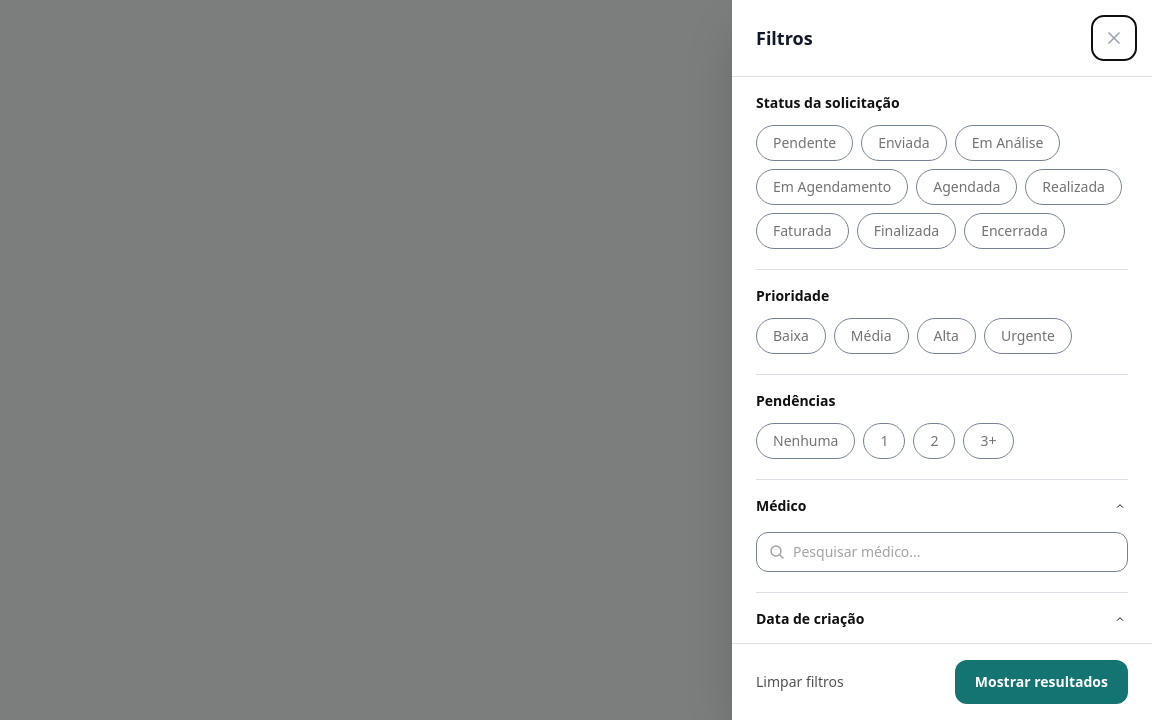
Test: FilterModal — Filtro por Médico › deve selecionar médico e exibir tag
Click the field with placeholder "Pesquisar médico..." at [954, 552], box [793,542,1115,562]
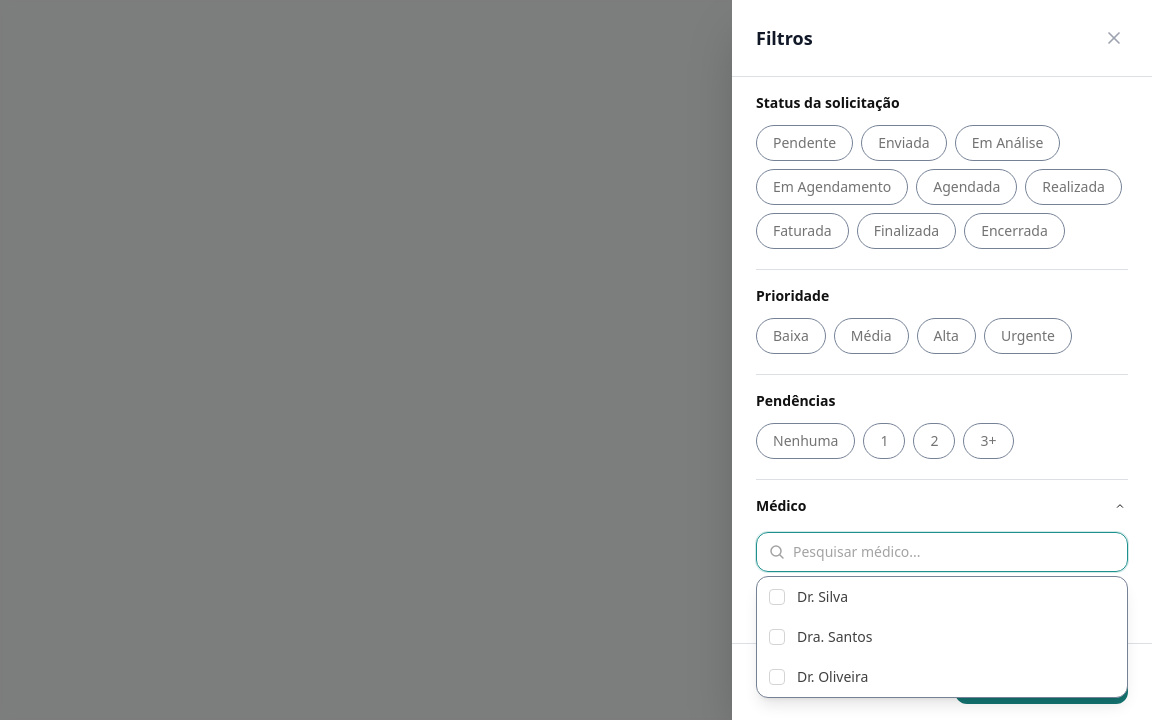
Click the button "Dr. Silva" at [823, 596], box [757,577,1127,617]
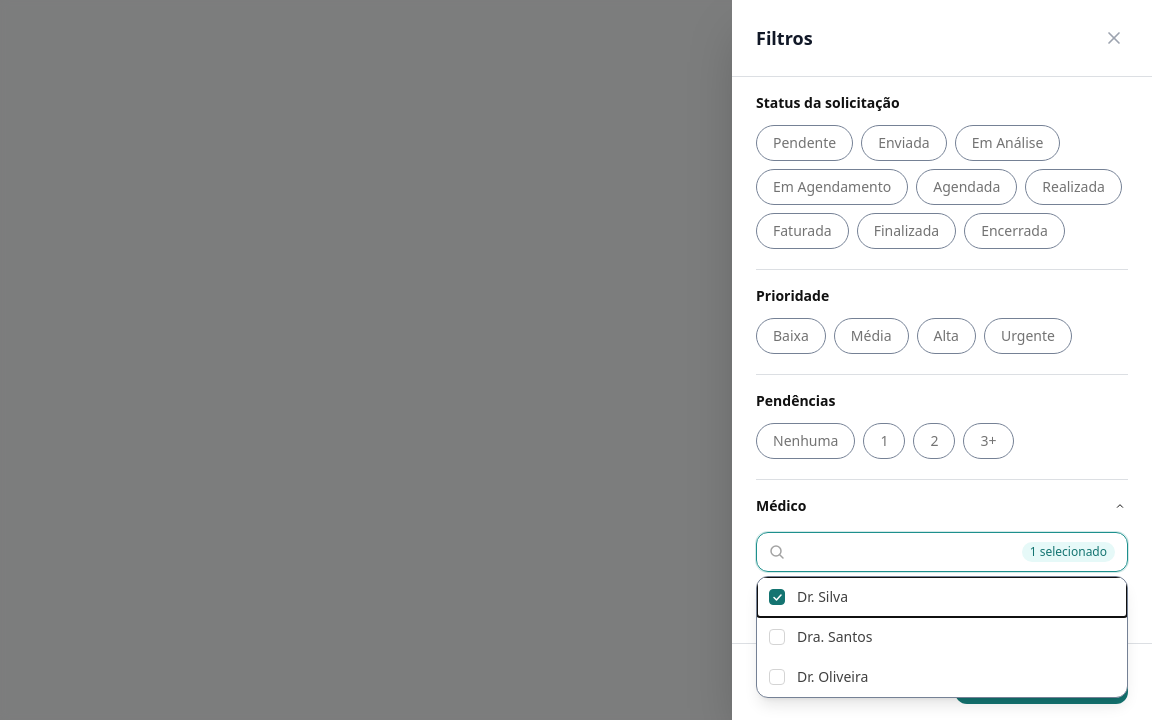
expect the text "1 selecionado" is shown: met, box [1022,542,1115,562]
